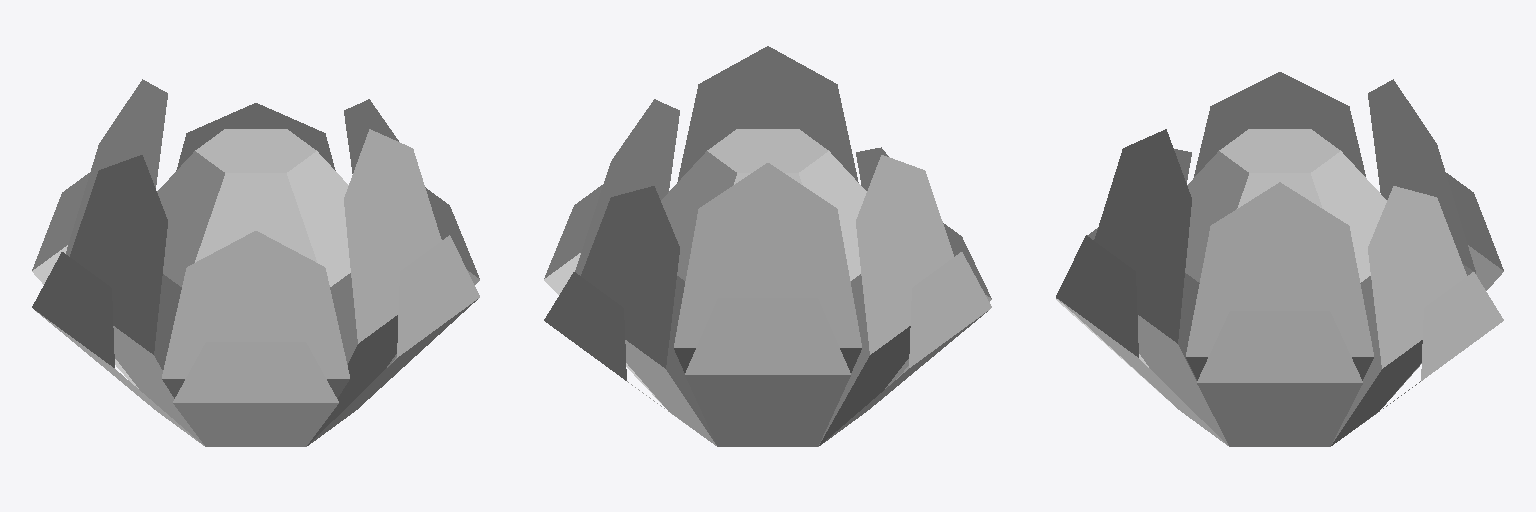
File: cabbage.obj
3 renders of one model, left to right at view 1: azimuth 30°, elevation 25°; view 2: azimuth 150°, elevation 25°; view 3: azimuth 270°, elevation 25°, orthographic.
Visible parts, largest first — view 1: cabbage; view 2: cabbage; view 3: cabbage.
Boxes of the visible parts, box(x1,y1,x2,y2) form: cabbage: box(32, 79, 479, 446); cabbage: box(544, 46, 991, 446); cabbage: box(1056, 72, 1503, 446).
Bounding box in the file's own units: 0.3794 × 0.3074 × 0.4036.